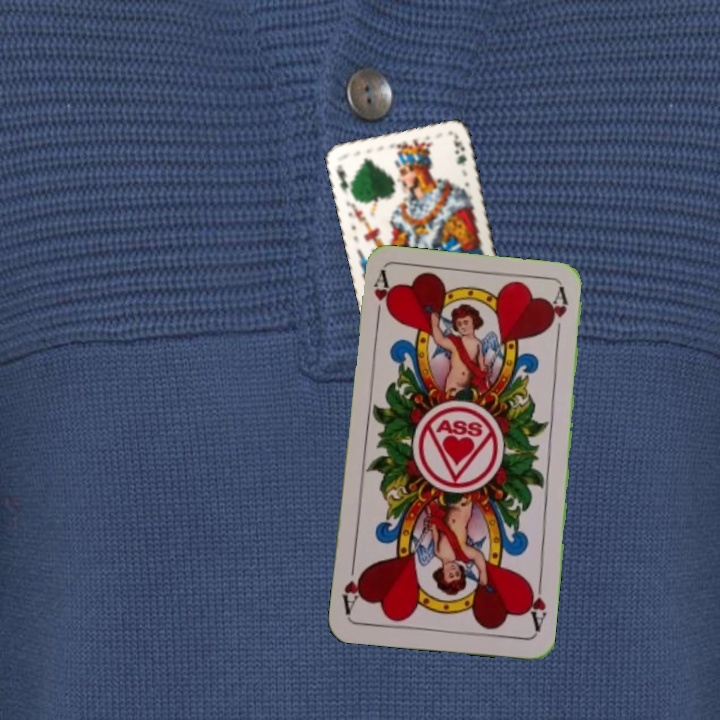GK: (332, 160, 351, 196)
HA: (522, 576, 549, 634), (369, 269, 394, 328)
